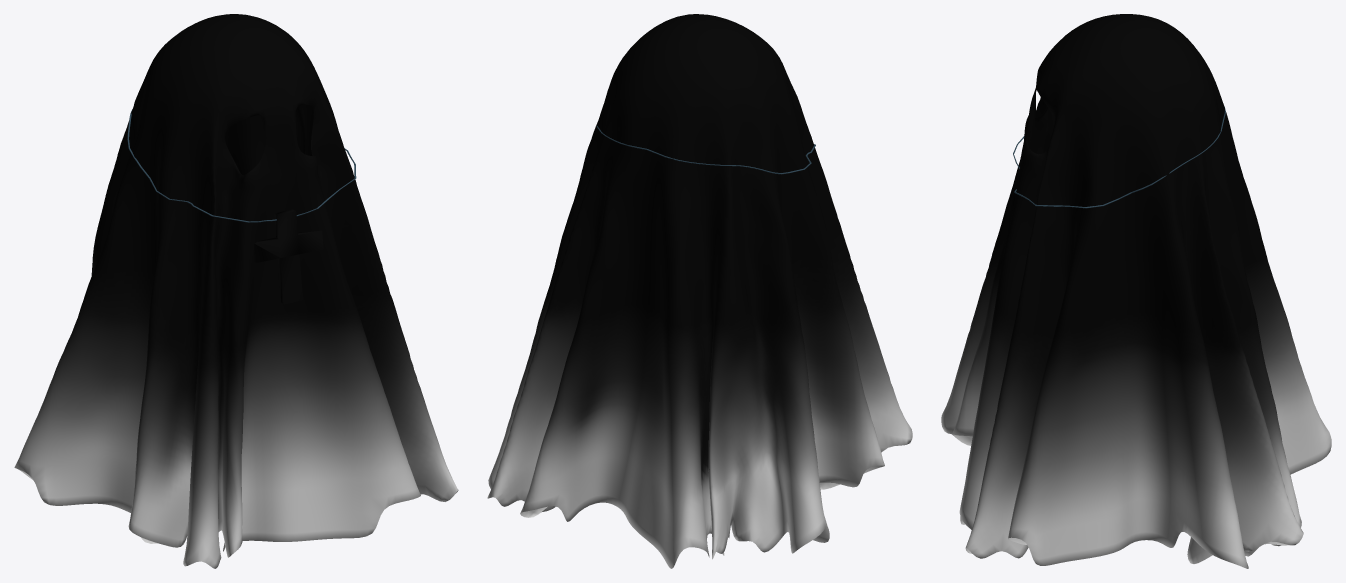
The model's file is GhostCross.fbx.
3 views of the same model, side by side, from view 1: azimuth 30°, elevation 25°; view 2: azimuth 150°, elevation 25°; view 3: azimuth 270°, elevation 25° (orthographic). The views are drawn at different scales.
Parts seen in each view (by area): view 1: Untitled; view 2: Untitled; view 3: Untitled.
Part boxes in pixels (x1,y1,x2,y2): Untitled: [14, 14, 458, 568]; Untitled: [487, 14, 912, 568]; Untitled: [941, 14, 1331, 568].
Bounding box in the file's own units: 99.43 × 139 × 101.
